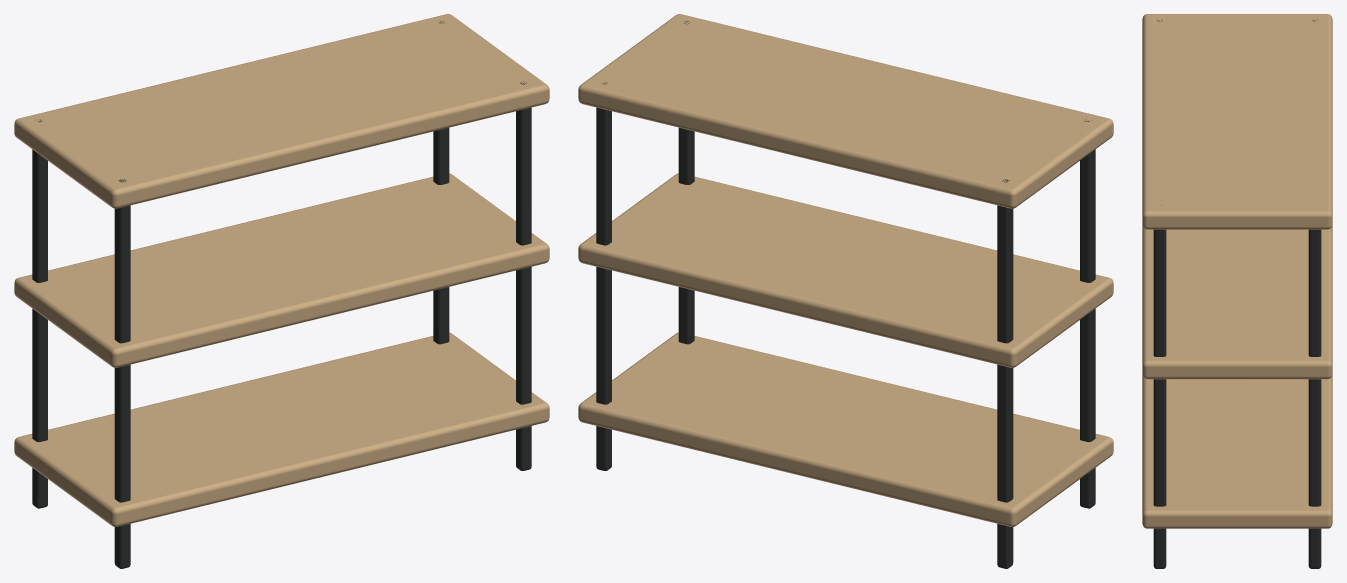
Rendered from shelf.glb.
3 views of the same model, side by side, from view 1: azimuth 30°, elevation 25°; view 2: azimuth 150°, elevation 25°; view 3: azimuth 270°, elevation 25° (orthographic). The views are drawn at different scales.
Size of the model in its own units: 0.95 by 0.8 by 0.38.
